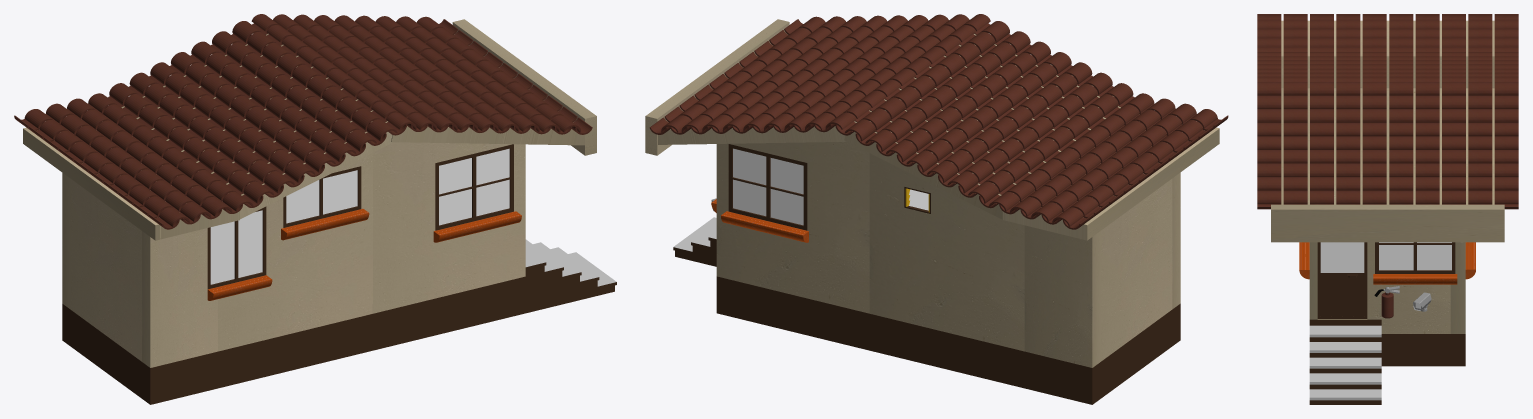
Rendered from Caseta.fbx.
3 views of the same model, side by side, from view 1: azimuth 30°, elevation 25°; view 2: azimuth 150°, elevation 25°; view 3: azimuth 270°, elevation 25° (orthographic). The views are drawn at different scales.
Parts seen in each view (by area): view 1: Cilindro.006, Cilindro.004, Pared.003, Pared.015, Pared.005, Cilindro, Pared.008, Pared.007, Cilindro.007, Ventana.013, Pared.011, Ventana.004 (+20 smaller); view 2: Cilindro.006, Pared.004, Cilindro.004, Pared.002, Pared.014, Cilindro, Pared.006, Pared.008, Cilindro.007, Ventana.015, Pared.011, Pared.012 (+10 smaller); view 3: Cilindro.004, Pared.016, Cilindro, Cilindro.006, Pared.001, Pared.009, Pared.018, Pared.013, Ventana.017, Cilindro.001, Puerta.004, Pared.002 (+18 smaller).
Boxes of the visible parts, bbox=[...] form: Cilindro.006: bbox=[109, 21, 397, 203]; Cilindro.004: bbox=[251, 14, 580, 132]; Pared.003: bbox=[373, 142, 525, 313]; Pared.015: bbox=[142, 276, 525, 404]; Pared.005: bbox=[218, 153, 372, 351]; Cilindro: bbox=[24, 93, 253, 226]; Pared.008: bbox=[70, 179, 141, 361]; Pared.007: bbox=[142, 228, 217, 367]; Cilindro.007: bbox=[108, 23, 407, 207]; Ventana.013: bbox=[439, 148, 509, 225]; Pared.011: bbox=[23, 127, 239, 240]; Ventana.004: bbox=[210, 210, 262, 284]; Cilindro.006: bbox=[845, 21, 1133, 203]; Pared.004: bbox=[869, 153, 1024, 351]; Cilindro.004: bbox=[661, 14, 990, 132]; Pared.002: bbox=[716, 141, 869, 313]; Pared.014: bbox=[716, 276, 1100, 404]; Cilindro: bbox=[989, 93, 1217, 226]; Pared.006: bbox=[1024, 225, 1100, 367]; Pared.008: bbox=[1101, 179, 1172, 361]; Cilindro.007: bbox=[835, 23, 1134, 208]; Ventana.015: bbox=[733, 148, 803, 225]; Pared.011: bbox=[1002, 127, 1219, 240]; Pared.012: bbox=[1101, 310, 1172, 398]; Cilindro.004: bbox=[1257, 82, 1518, 204]; Pared.016: bbox=[1271, 204, 1504, 242]; Cilindro: bbox=[1257, 19, 1518, 51]; Cilindro.006: bbox=[1257, 52, 1518, 81]; Pared.001: bbox=[1324, 242, 1450, 333]; Pared.009: bbox=[1281, 88, 1494, 204]; Pared.018: bbox=[1317, 242, 1367, 318]; Pared.013: bbox=[1381, 334, 1450, 366]; Ventana.017: bbox=[1379, 242, 1451, 270]; Cilindro.001: bbox=[1257, 14, 1518, 19]; Puerta.004: bbox=[1320, 242, 1364, 272]; Pared.002: bbox=[1450, 242, 1465, 333].
Bounding box in the file's own units: 824 × 404 × 436.
